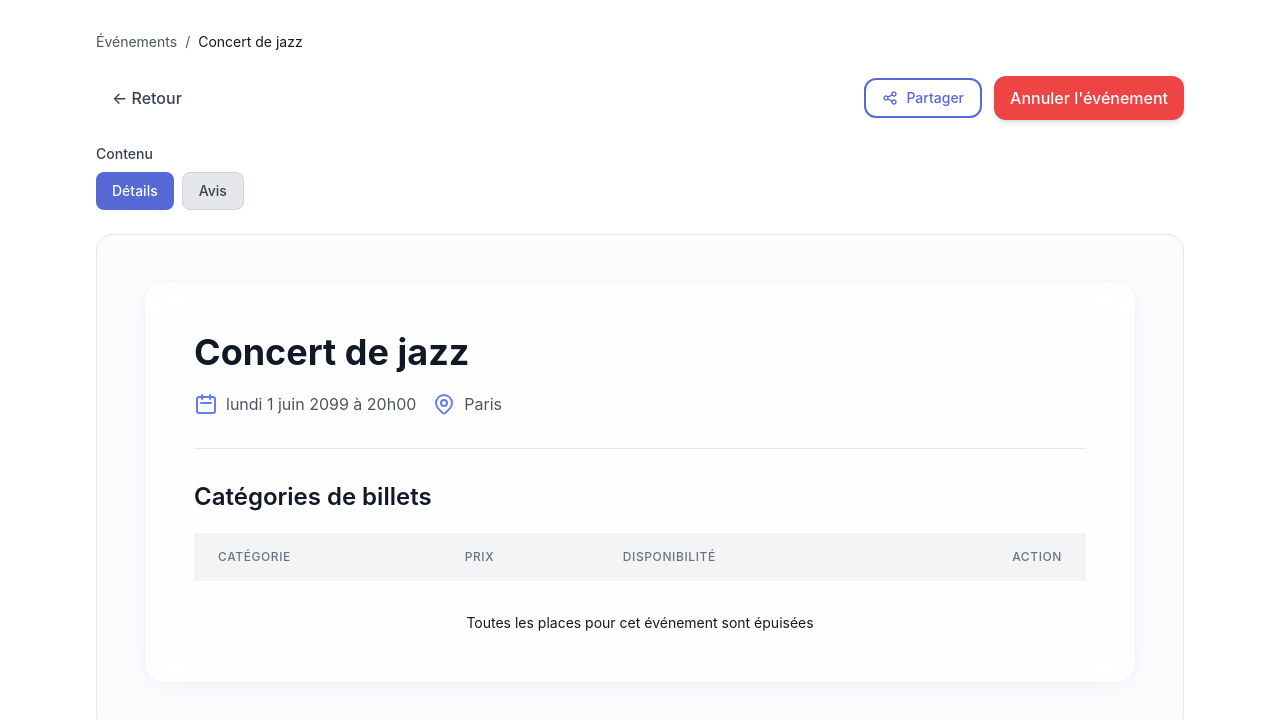
EventDetailPage - content › closes the cancel modal without cancelling
The width and height of the screenshot is (1280, 720).
What coordinates should you click on to do the following:
click the button "Annuler l'événement"
I would click on:
 (1089, 98)
Its box is x1=994 y1=76 x2=1184 y2=120.
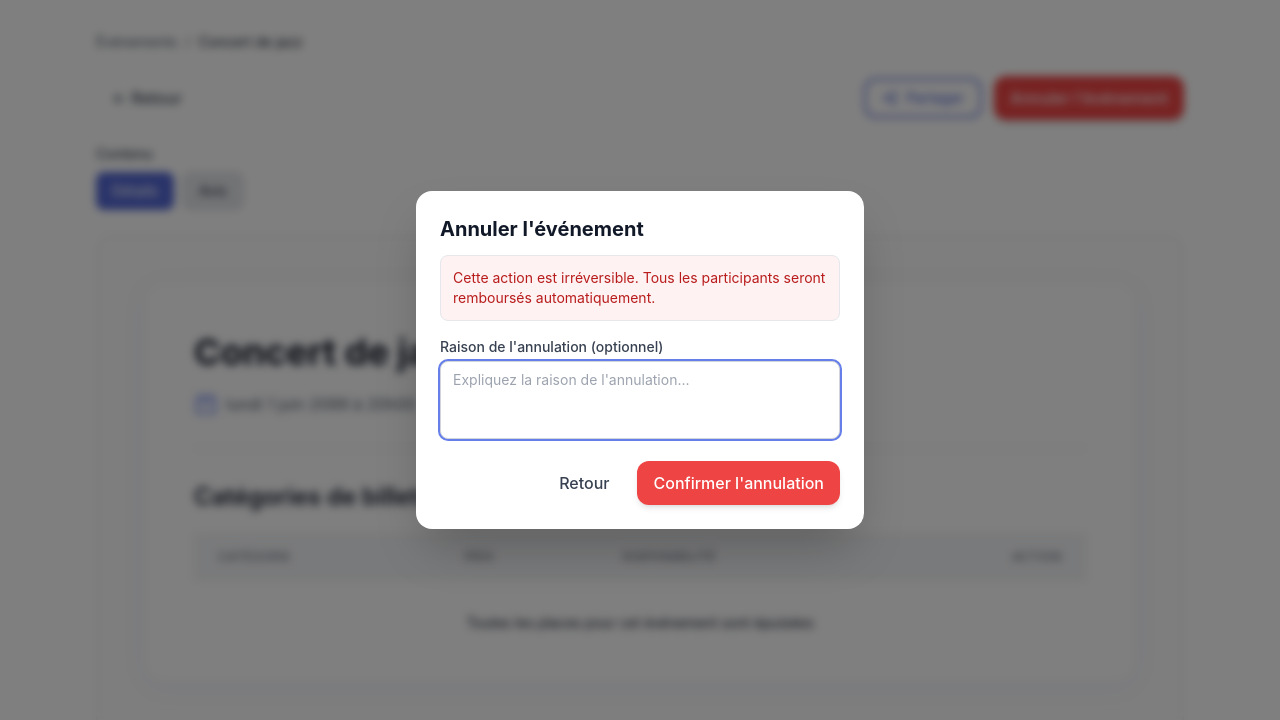
What coordinates should you click on to do the following:
click the button "Retour"
I would click on:
 (584, 483)
Its box is x1=543 y1=461 x2=626 y2=505.
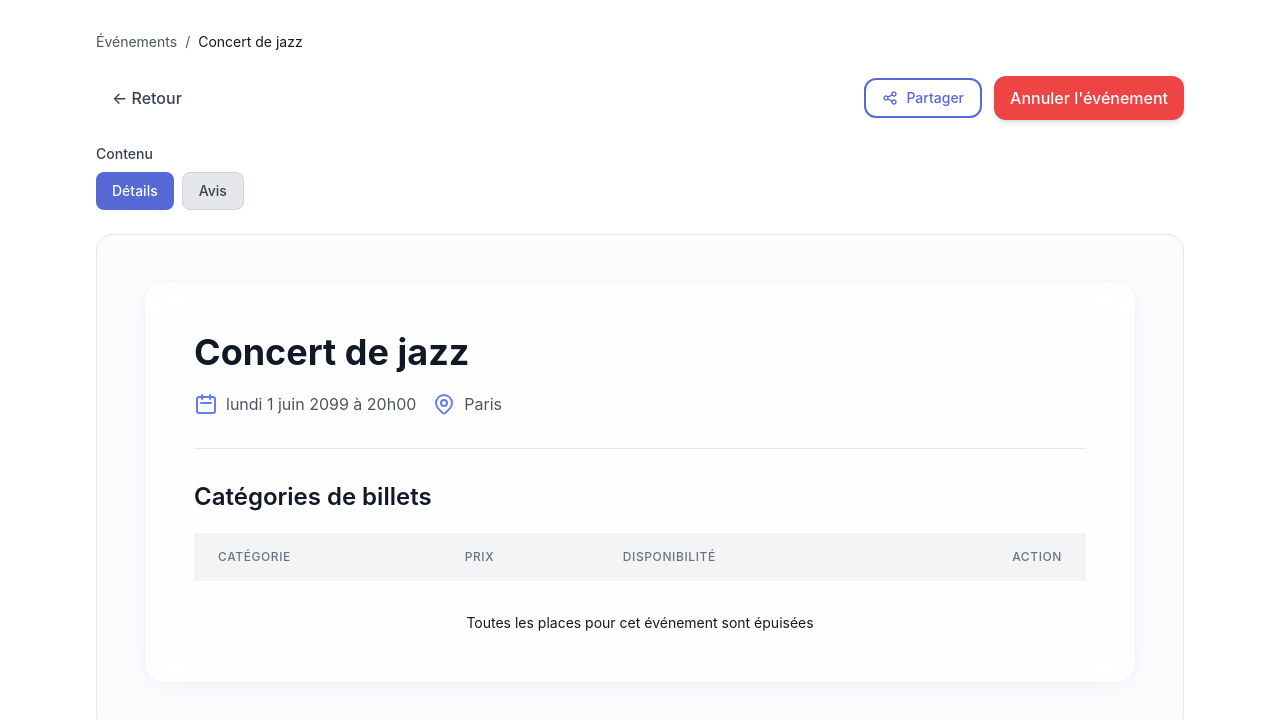
Expected: the text "Raison de l'annulation (optionnel)" is gone
